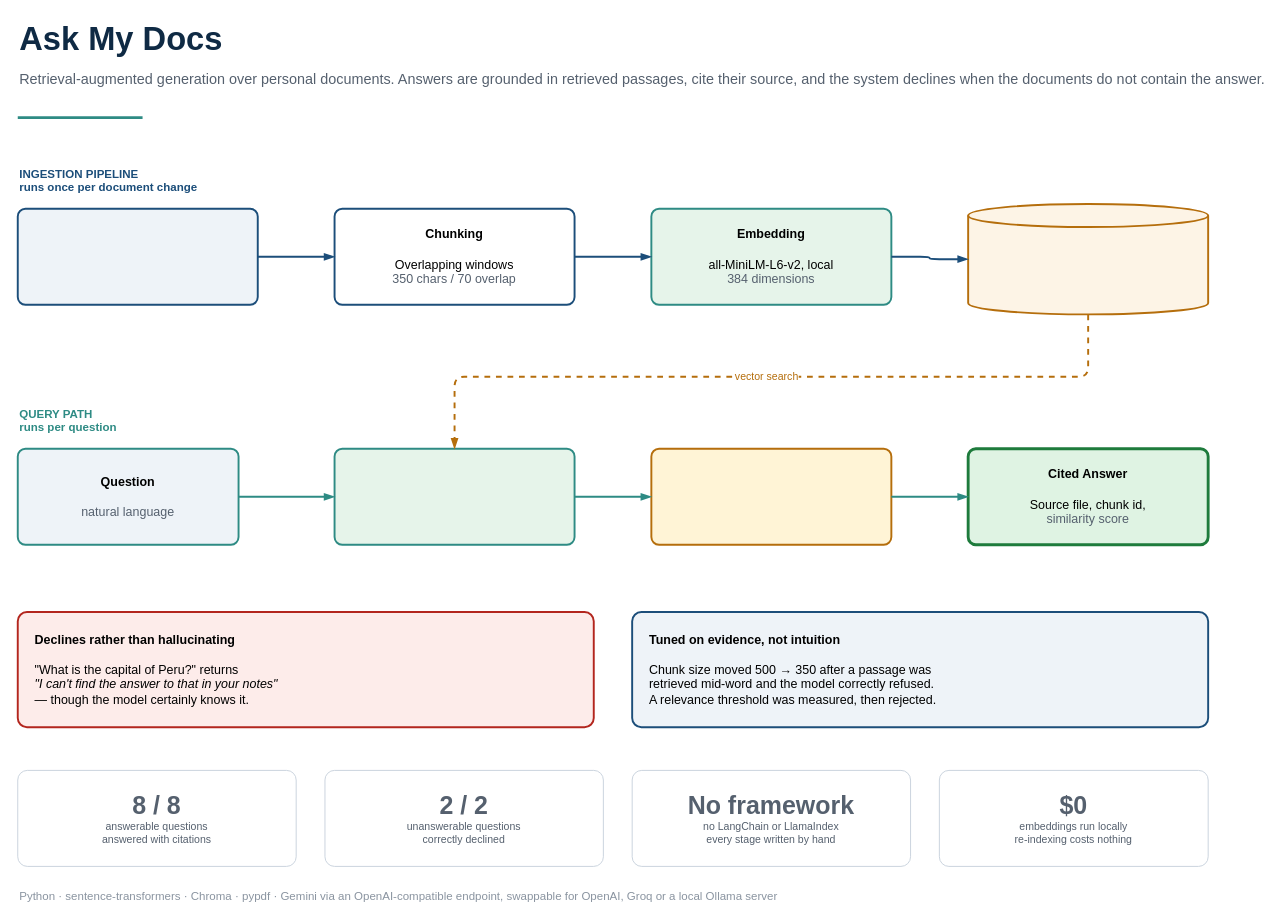
The diagram is 1282 pixels wide and 924 high, and some of its shapes have lost their labels. Here are the shapes that lost their labels. From the top down, the centre of each, then its label:
(137,256): Documents Markdown, PDF, Word, CSV 85.6k characters
(1088,259): Vector Store Chroma, cosine space 343 chunks, persisted
(454,496): Semantic Retrieval Top-5 by cosine similarity same embedding model
(771,496): Grounded Prompting Numbered passages, answer only from supplied context
